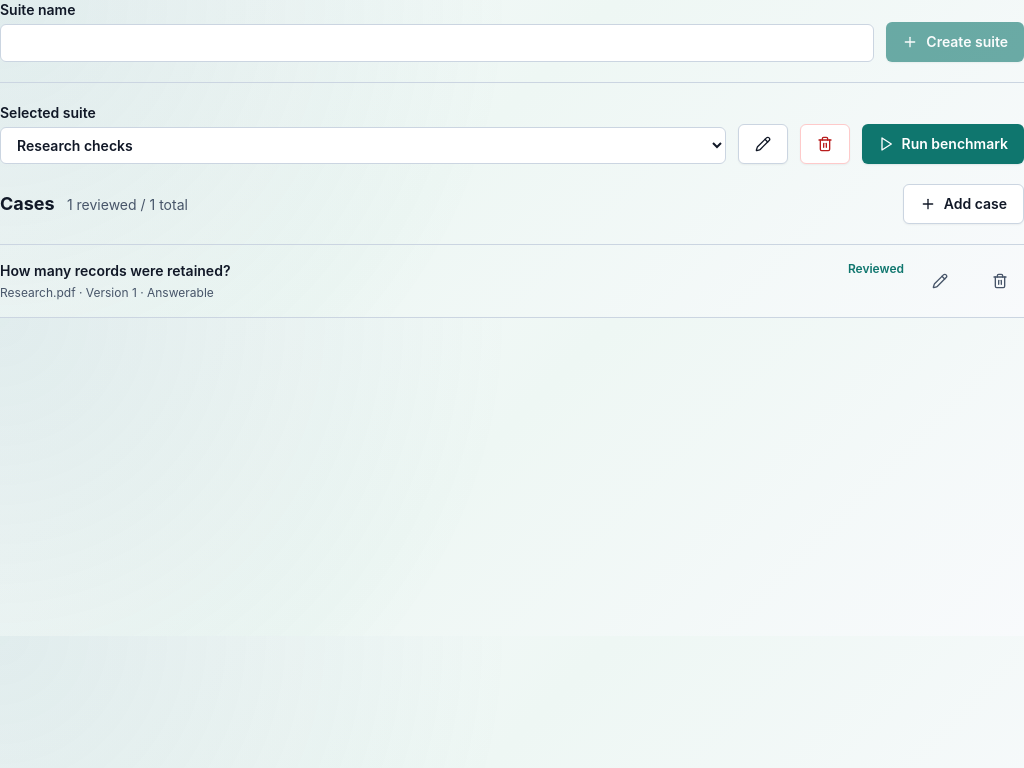
Scenario: DocumentBenchmarks › surfaces an actionable globally-busy error without a false new run
Expected: the text "Reviewed" is shown, [848,261,904,277]
Click the button "Run benchmark" at (943, 144), box [862,124,1023,164]
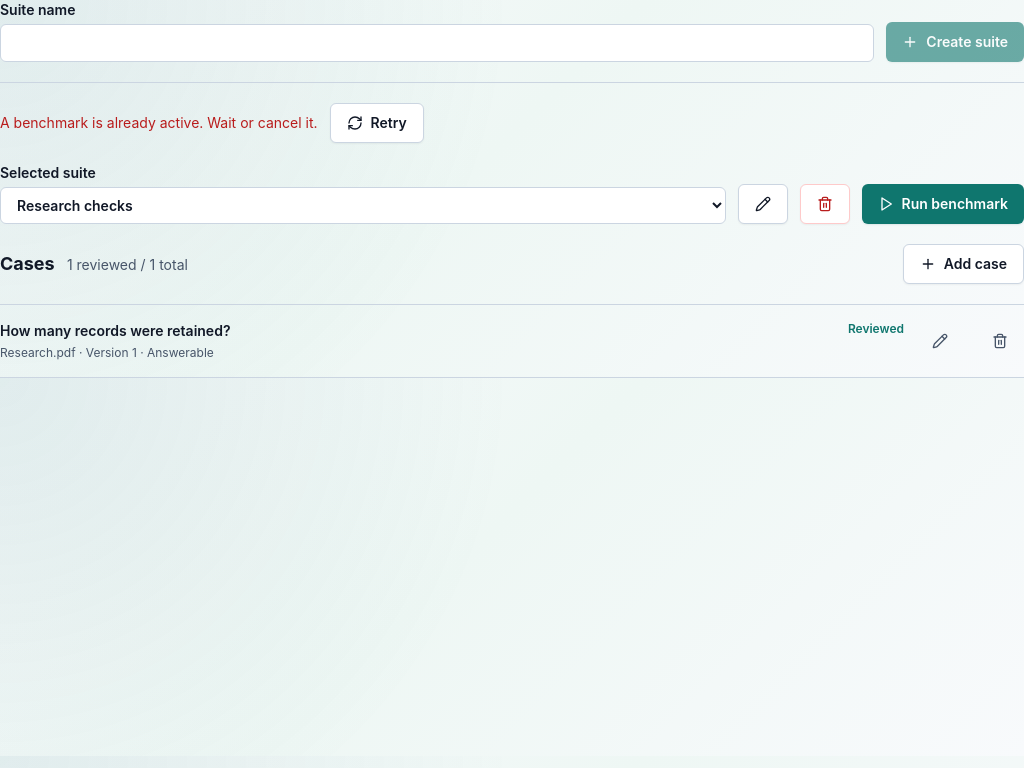
Result: the message shows "Wait or cancel it." at [0,114,318,131]
